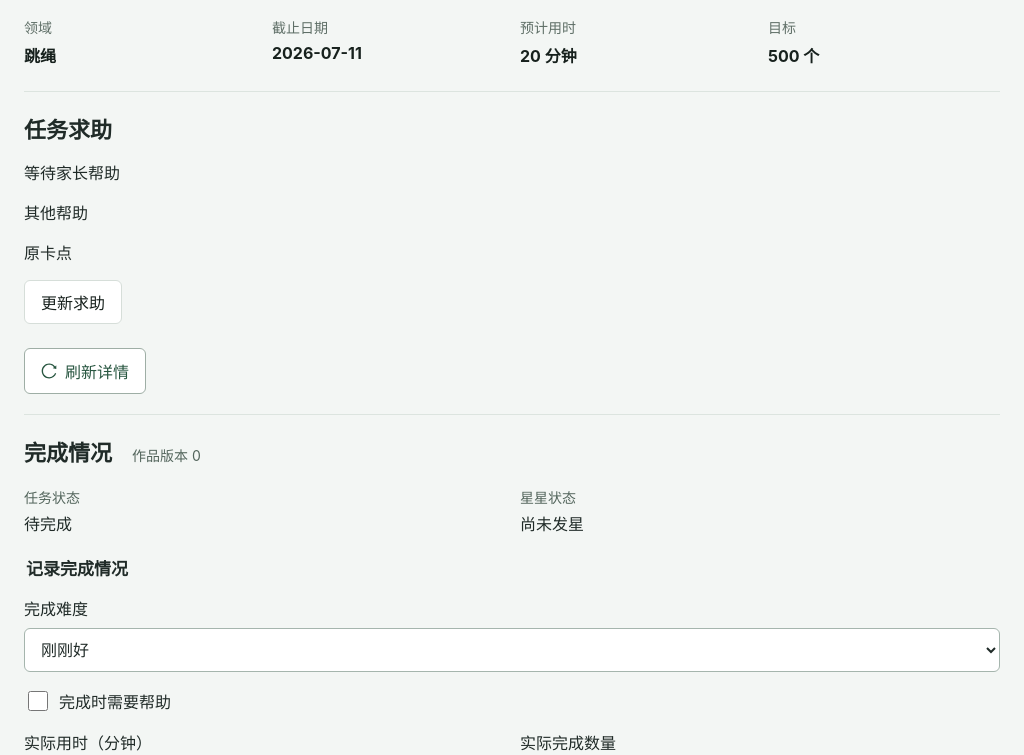
Test: child task completion › refreshing task details also displays the latest parent help response
(page scrolled)
Expected: the text "等待家长帮助" is shown, top-left (24, 163), bottom-right (120, 183)
Click the button "刷新详情" at (85, 371), box top-left (24, 348), bottom-right (146, 394)
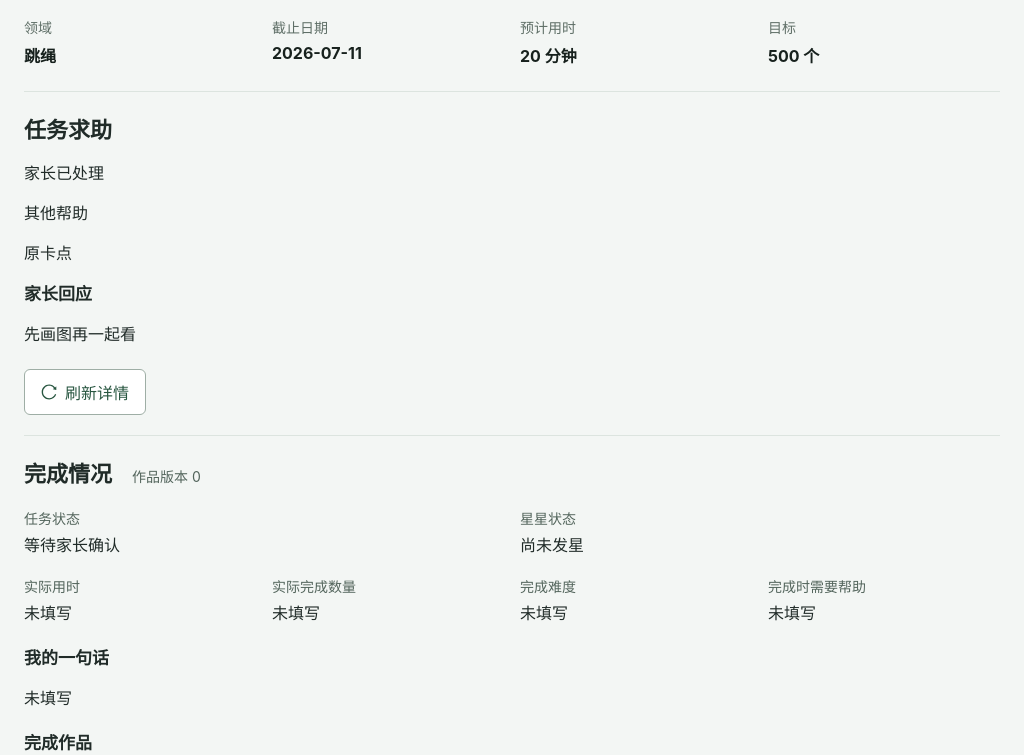
Result: the text "先画图再一起看" is shown at top-left (24, 324), bottom-right (136, 344)
Result: the text "等待家长帮助" is gone
Result: the button "更新求助" is gone
